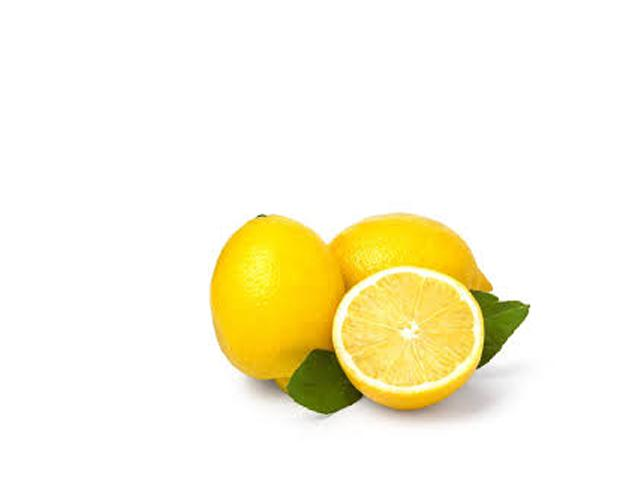lemon: (335, 203, 502, 310)
